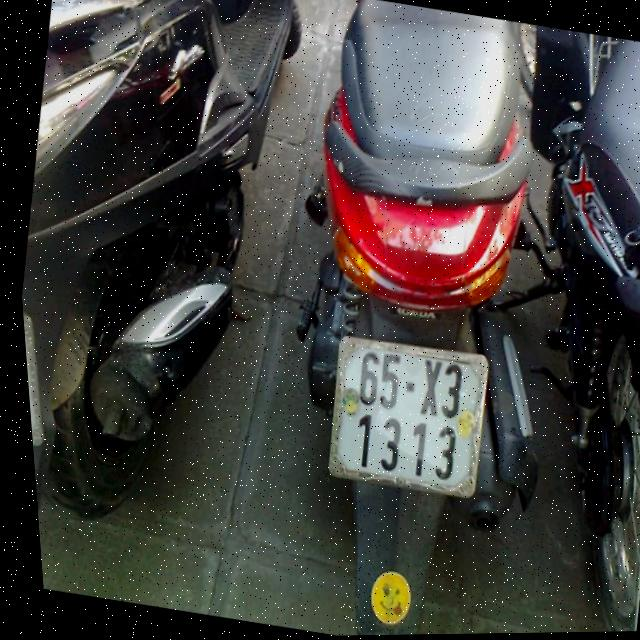motorcycle: (213, 0, 635, 637), (0, 0, 354, 612), (408, 22, 640, 634)
plate: (308, 327, 504, 508)
